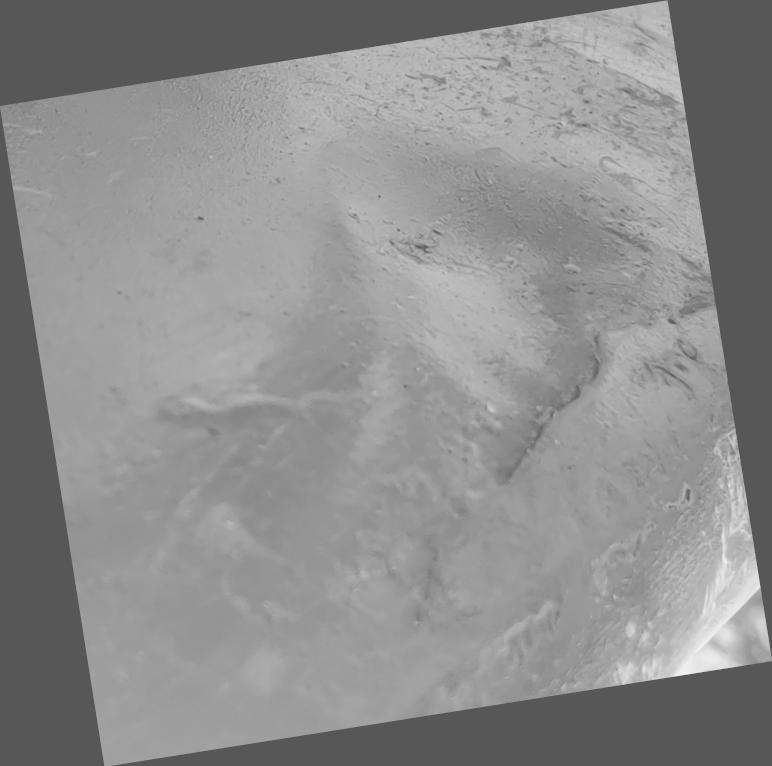dent: (1, 0, 772, 766)
